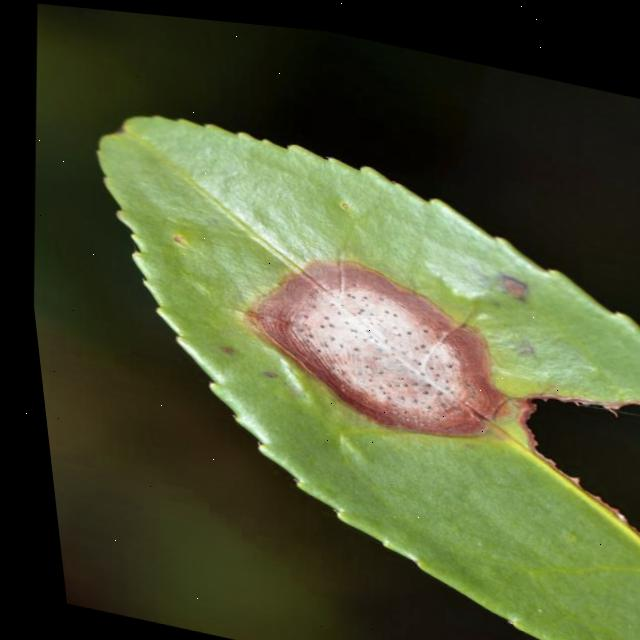Tea cloud leaf blight: (228, 231, 515, 448)
